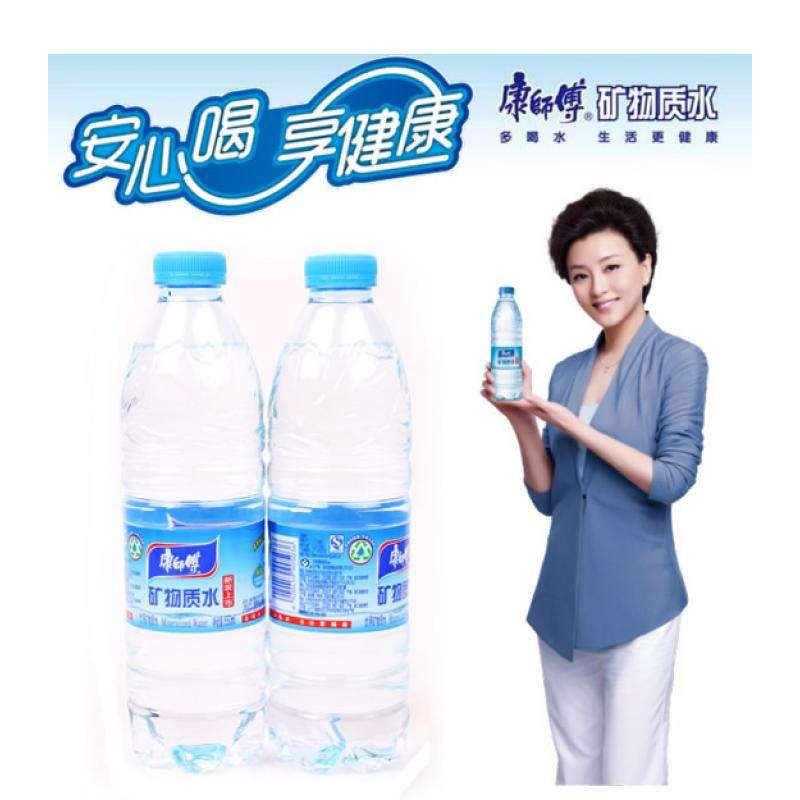amwater: (266, 227, 462, 800), (102, 236, 275, 789), (476, 266, 532, 407)
